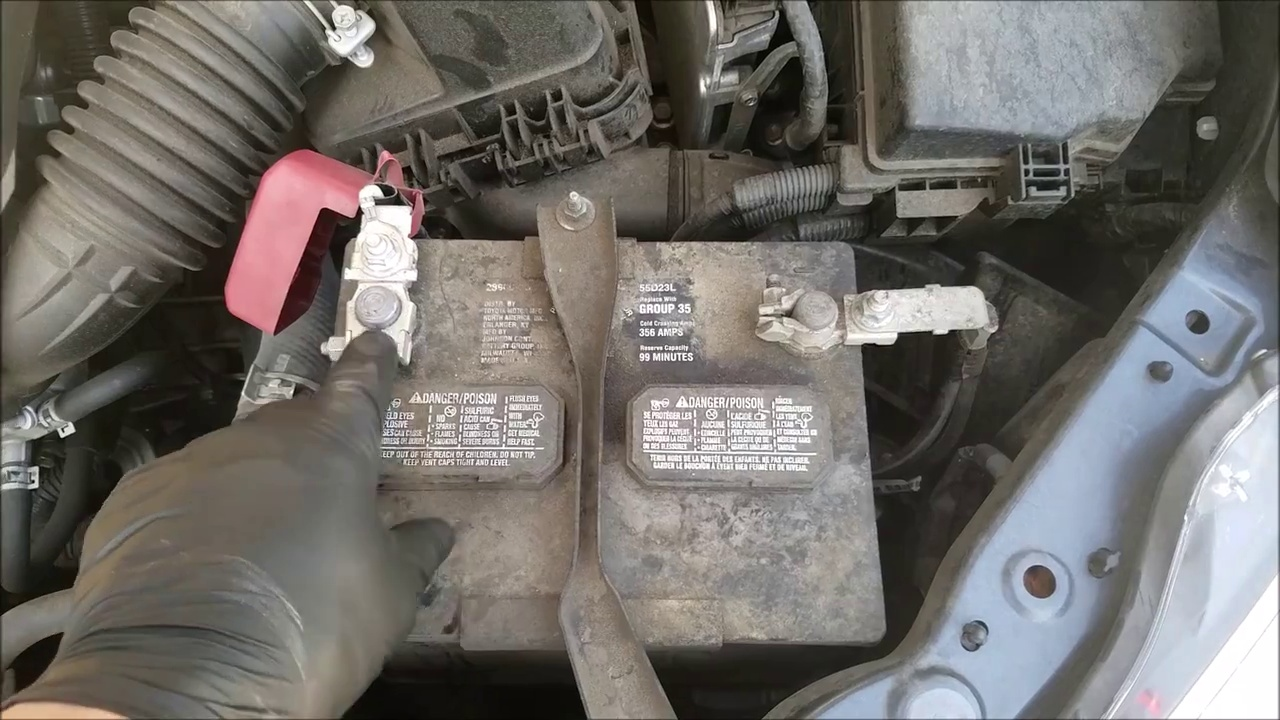battery: (333, 205, 900, 654)
neg_connected: (757, 255, 922, 374)
pos_connected: (257, 155, 447, 357)
pos_touched: (253, 181, 470, 557)
